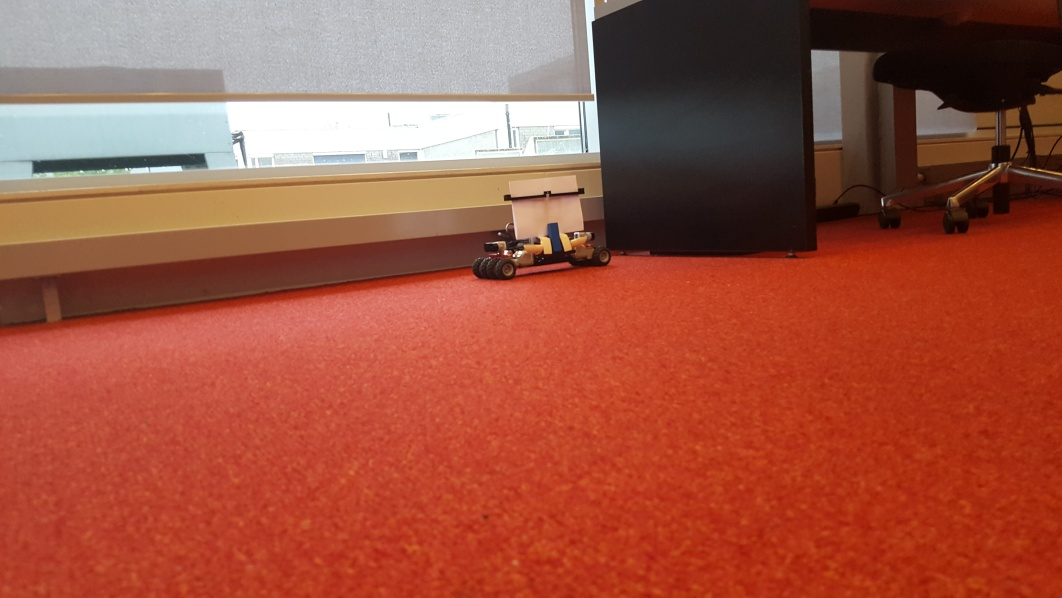car: (473, 174, 613, 281)
